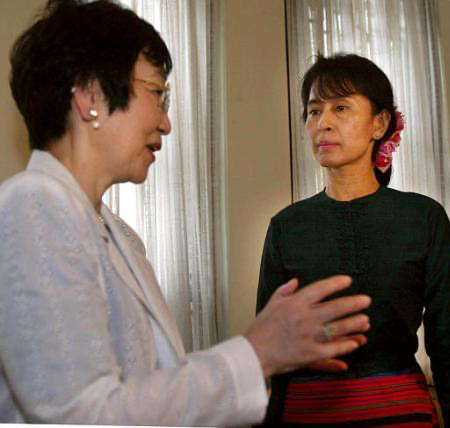Face: (119, 60, 182, 200), (298, 91, 374, 173)
